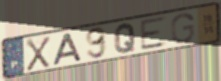9: (84, 26, 109, 61)
A: (51, 31, 84, 67)
E: (139, 15, 169, 52)
G: (170, 11, 196, 45)
Q: (113, 22, 137, 55)
X: (25, 35, 52, 73)
